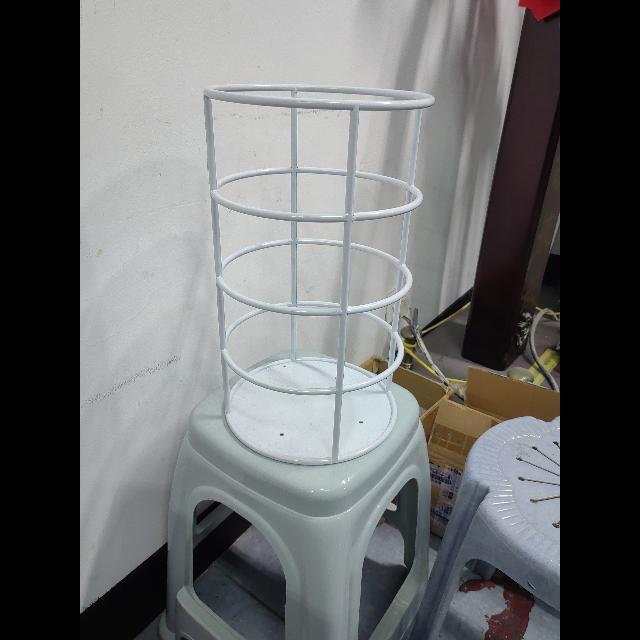S: (198, 78, 440, 472)
